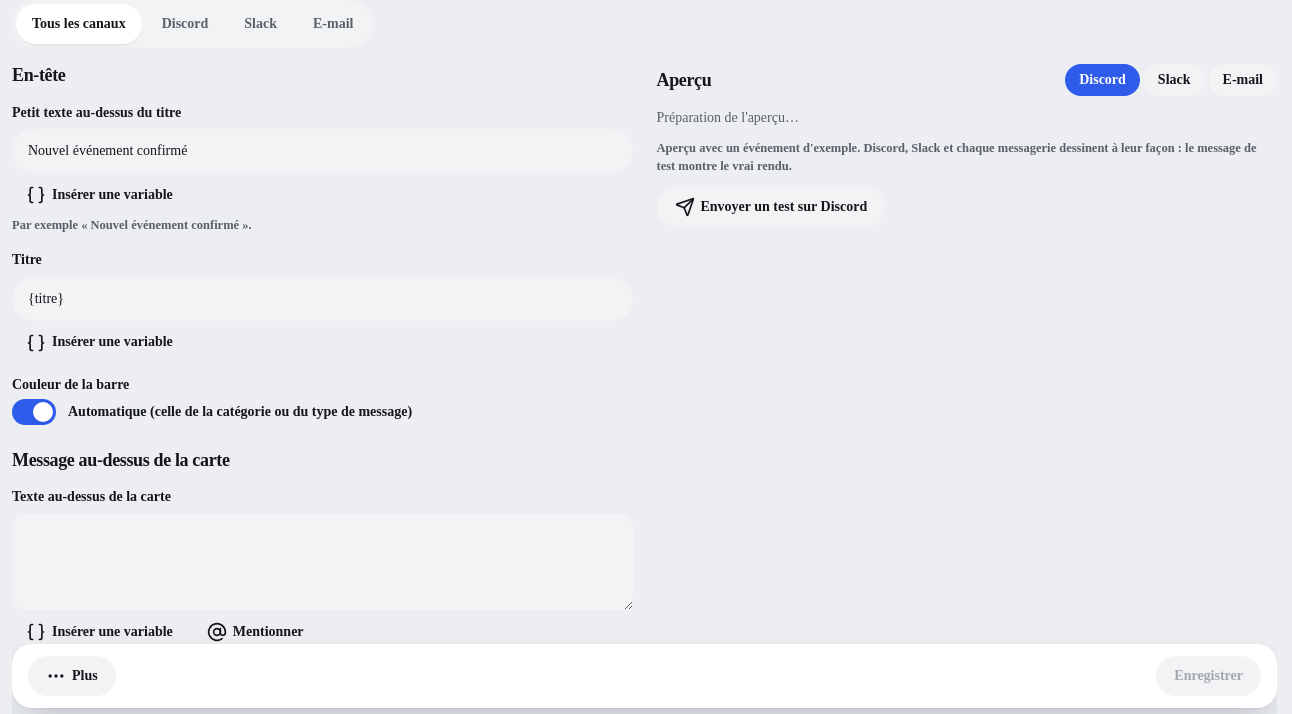
it: the editor of a notification › says another save came first, and offers to reload
Replace the text in the field labelled "Titre" with "X" at (322, 299), box [12,277,632,321]
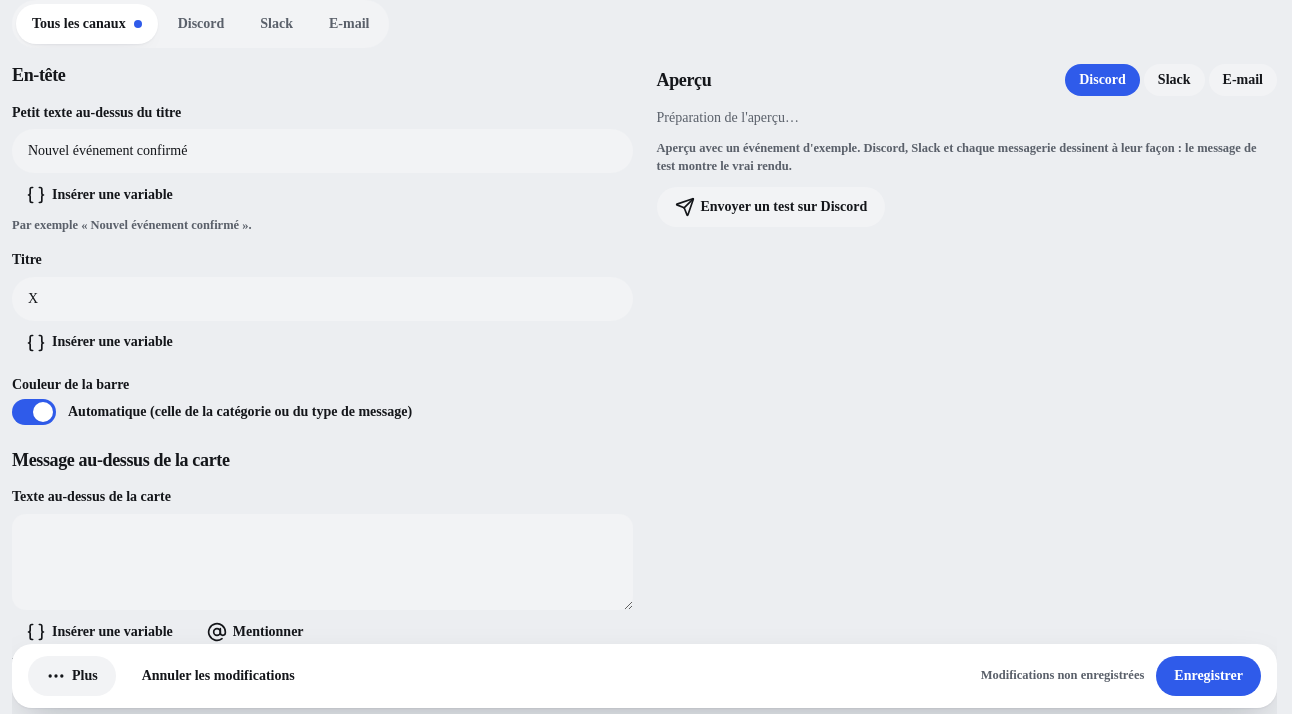
Click the button "Enregistrer" at (1209, 676), box [1156,656,1261,696]
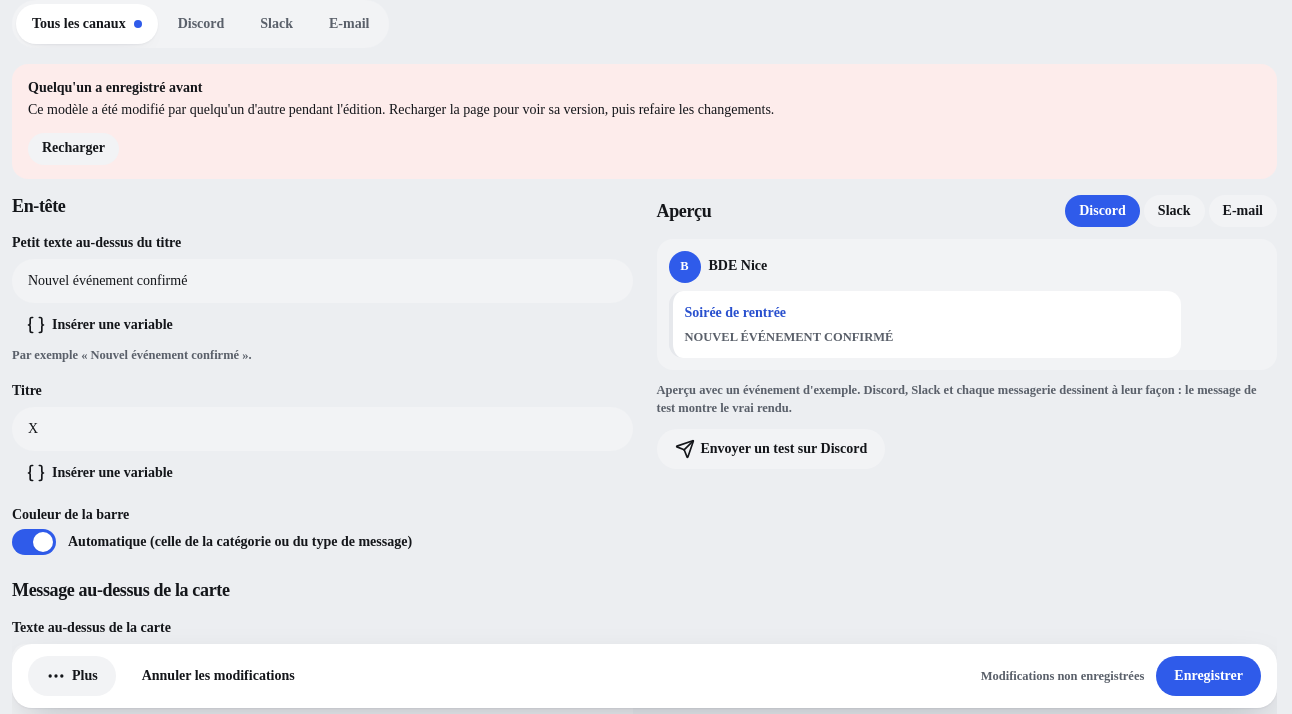
expect the text "Quelqu'un a enregistré avant" is shown: met, box [28,80,202,95]
expect the button "Recharger" is shown: met, box [28,133,119,165]
